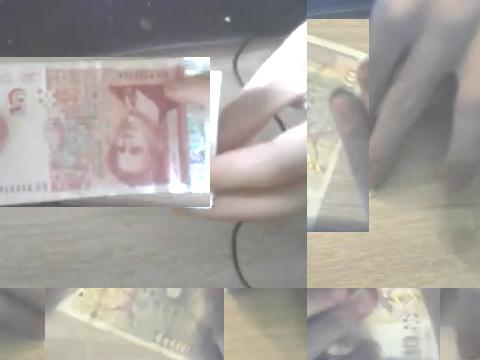10leva: (307, 32, 369, 232), (58, 288, 203, 360), (365, 288, 440, 360)
5leva: (0, 57, 210, 206)
